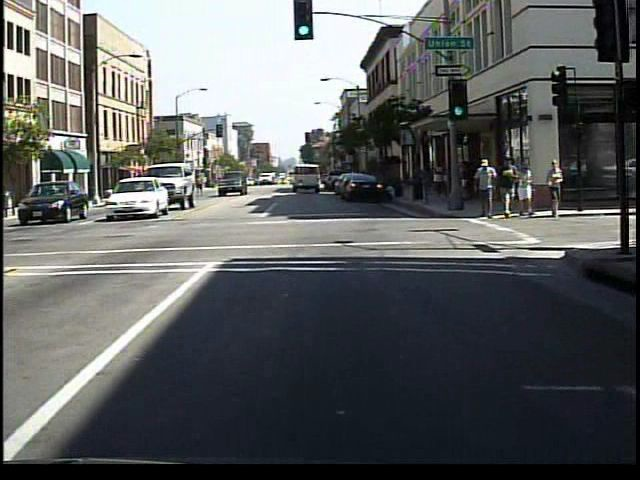person: (472, 157, 499, 222), (544, 157, 570, 222), (495, 153, 520, 217), (518, 157, 539, 221), (431, 157, 451, 206), (193, 172, 210, 201)
